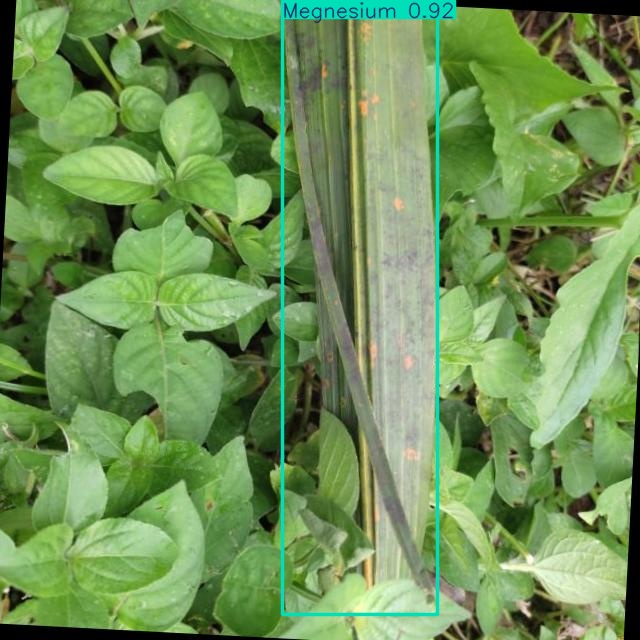Megnesium: (282, 1, 438, 615)
